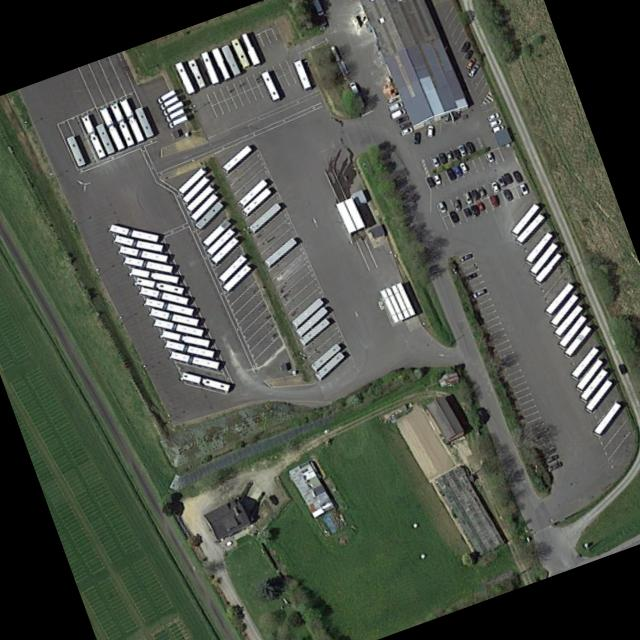large-vehicle: (118, 99, 144, 143), (109, 103, 134, 147), (80, 115, 105, 159), (99, 108, 124, 151), (568, 347, 599, 381), (543, 283, 574, 316), (578, 369, 608, 403), (592, 403, 620, 438), (138, 287, 189, 306), (574, 359, 602, 393), (143, 298, 193, 317), (180, 373, 229, 392), (296, 307, 327, 337), (558, 316, 587, 348), (248, 204, 281, 232), (584, 380, 612, 413), (169, 352, 220, 370), (148, 309, 198, 327), (528, 243, 557, 274), (533, 254, 562, 285), (264, 239, 296, 267), (152, 320, 204, 337), (515, 214, 544, 244), (309, 345, 340, 373), (554, 306, 582, 337), (550, 295, 577, 327), (108, 225, 158, 242), (209, 237, 239, 265), (314, 353, 344, 381), (524, 233, 552, 263), (291, 300, 322, 327), (564, 326, 591, 357), (134, 278, 183, 295), (164, 341, 213, 358), (217, 255, 246, 283), (511, 205, 539, 234), (200, 220, 230, 247), (117, 246, 167, 262), (122, 257, 172, 273), (194, 202, 222, 230), (113, 236, 162, 252), (160, 331, 209, 347), (177, 168, 206, 195), (185, 185, 214, 212), (221, 265, 250, 292), (238, 180, 267, 207), (242, 188, 271, 215), (299, 319, 329, 345), (189, 195, 217, 222), (181, 176, 209, 203), (205, 230, 234, 256), (222, 146, 251, 172), (129, 269, 179, 284), (174, 62, 195, 94), (220, 46, 241, 76), (200, 52, 219, 85), (94, 124, 114, 155), (240, 34, 259, 66), (211, 48, 230, 80), (259, 71, 279, 101), (65, 137, 85, 167), (134, 108, 153, 139), (230, 39, 250, 68), (188, 59, 206, 89), (292, 60, 309, 90)
small-vehicle: (161, 100, 185, 118), (155, 87, 176, 105), (164, 108, 187, 123), (159, 95, 180, 111), (167, 115, 189, 129), (387, 101, 404, 115), (465, 64, 480, 79), (389, 108, 406, 121), (312, 0, 324, 17), (447, 212, 461, 226), (472, 287, 487, 300), (489, 180, 501, 195), (464, 58, 477, 71), (461, 192, 473, 206), (456, 145, 468, 159), (546, 462, 561, 473), (487, 118, 502, 129), (489, 124, 504, 135), (458, 253, 473, 264), (445, 167, 456, 182), (469, 189, 481, 202), (459, 41, 471, 54), (464, 141, 475, 155), (502, 173, 513, 187), (495, 176, 506, 190), (399, 127, 413, 138), (485, 113, 500, 123), (488, 195, 498, 210), (451, 198, 461, 213), (430, 156, 441, 169), (437, 153, 448, 166), (512, 170, 522, 184), (502, 189, 512, 203), (348, 82, 358, 96), (469, 206, 480, 218), (443, 151, 454, 163), (518, 183, 528, 196), (542, 448, 555, 458), (395, 115, 408, 125), (425, 176, 435, 189), (436, 201, 446, 214), (432, 173, 442, 186), (452, 166, 462, 179), (458, 162, 468, 175), (268, 495, 278, 507), (476, 187, 486, 199), (475, 201, 485, 213), (484, 152, 494, 164), (464, 273, 477, 282), (545, 454, 558, 463), (398, 122, 411, 131), (617, 364, 627, 375), (451, 150, 461, 161), (319, 17, 328, 29), (425, 127, 434, 139), (412, 132, 420, 145), (464, 51, 474, 61), (462, 207, 471, 218)
